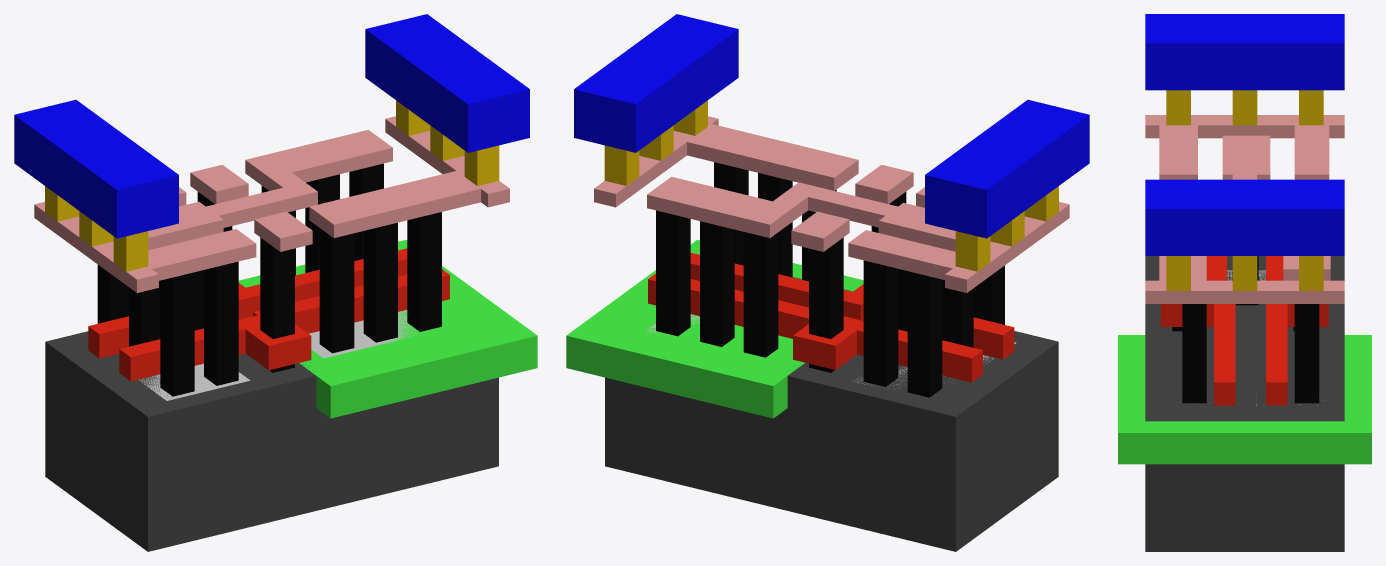
Rendered from sky130_fd_sc_hd__nor2_1.obj.
3 views of the same model, side by side, from view 1: azimuth 30°, elevation 25°; view 2: azimuth 150°, elevation 25°; view 3: azimuth 270°, elevation 25° (orthographic). The views are drawn at different scales.
Parts seen in each view (by area): view 1: subs, licon, metal1, li, nwell, poly, mcon, tap, diff; view 2: subs, licon, metal1, li, nwell, poly, mcon; view 3: subs, metal1, nwell, li, poly, mcon, licon.
Boxes of the visible parts, x1=… form: subs: x1=45, y1=331, x2=498, y2=551; licon: x1=97, y1=163, x2=441, y2=396; metal1: x1=14, y1=14, x2=529, y2=238; li: x1=34, y1=116, x2=509, y2=292; nwell: x1=238, y1=239, x2=537, y2=418; poly: x1=88, y1=248, x2=449, y2=381; mcon: x1=45, y1=100, x2=499, y2=271; tap: x1=309, y1=310, x2=417, y2=358; diff: x1=139, y1=363, x2=250, y2=400; subs: x1=605, y1=277, x2=1058, y2=551; licon: x1=656, y1=162, x2=1004, y2=397; metal1: x1=574, y1=14, x2=1089, y2=238; li: x1=594, y1=116, x2=1069, y2=292; nwell: x1=566, y1=239, x2=863, y2=418; poly: x1=648, y1=253, x2=1014, y2=382; mcon: x1=604, y1=100, x2=1058, y2=271; subs: x1=1145, y1=256, x2=1344, y2=551; metal1: x1=1145, y1=14, x2=1344, y2=255; nwell: x1=1118, y1=335, x2=1371, y2=464; li: x1=1145, y1=115, x2=1344, y2=303; poly: x1=1160, y1=256, x2=1328, y2=405; mcon: x1=1166, y1=90, x2=1323, y2=290; licon: x1=1172, y1=256, x2=1319, y2=403.
Bounding box in the file's own units: 3.2 × 2.74 × 1.76.
